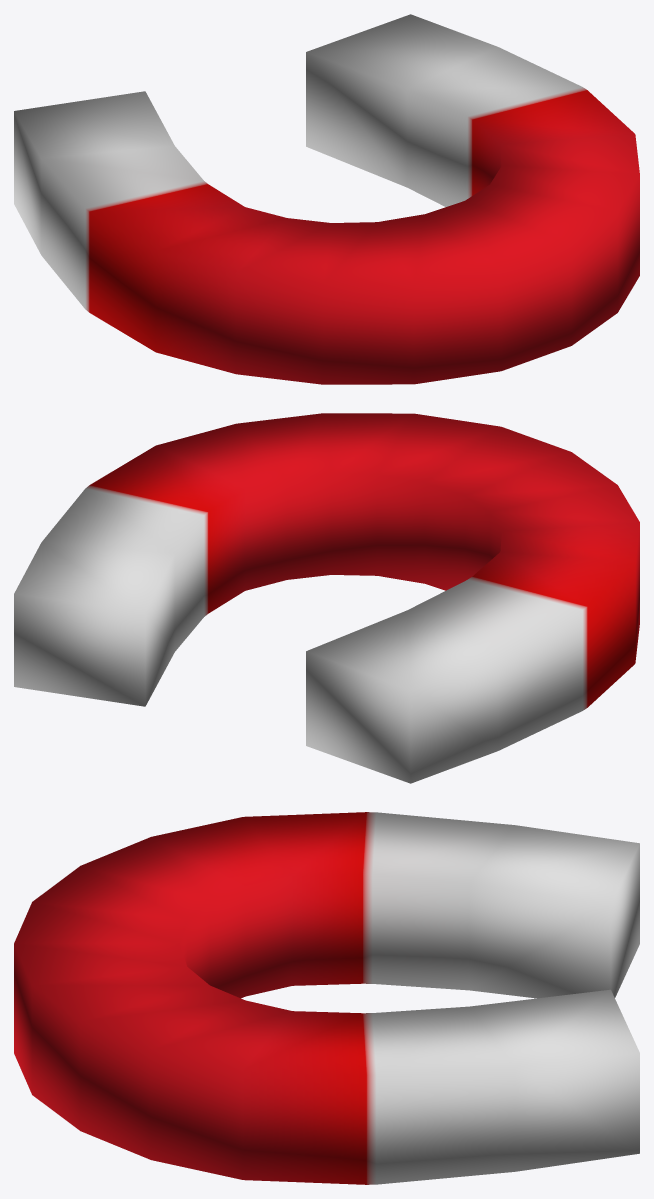
The model's file is magnet.fbx.
The picture shows the model from 3 angles, top to bottom: view 1: azimuth 30°, elevation 25°; view 2: azimuth 150°, elevation 25°; view 3: azimuth 270°, elevation 25°; orthographic projection. The views are drawn at different scales.
Visible parts, largest first — view 1: magnet; view 2: magnet; view 3: magnet.
Part boxes in pixels (<box>): magnet: <box>14,14,639,384</box>; magnet: <box>14,413,639,783</box>; magnet: <box>14,812,639,1184</box>.
Size of the model in its own units: 606 by 118 by 609.
